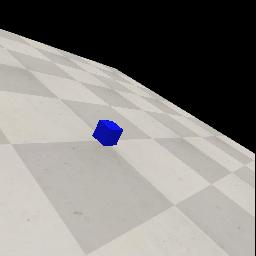box: (92, 120, 123, 146)
